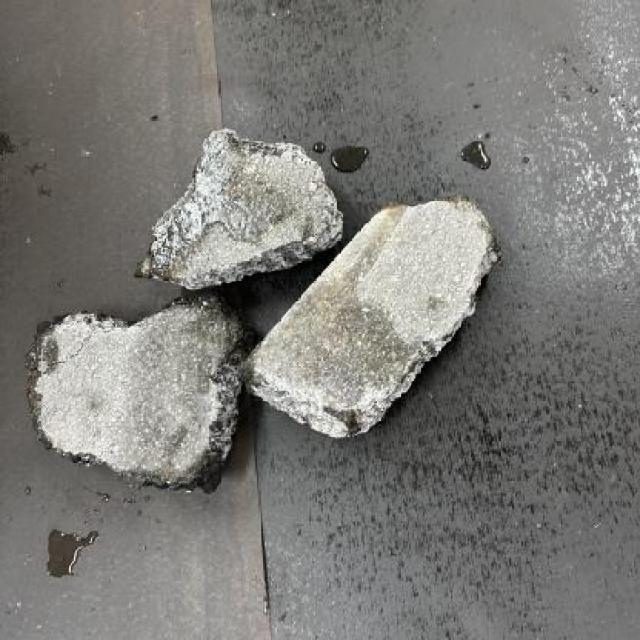Road Debris: (140, 136, 288, 266), (260, 286, 422, 403), (120, 308, 226, 482), (342, 202, 409, 288)
